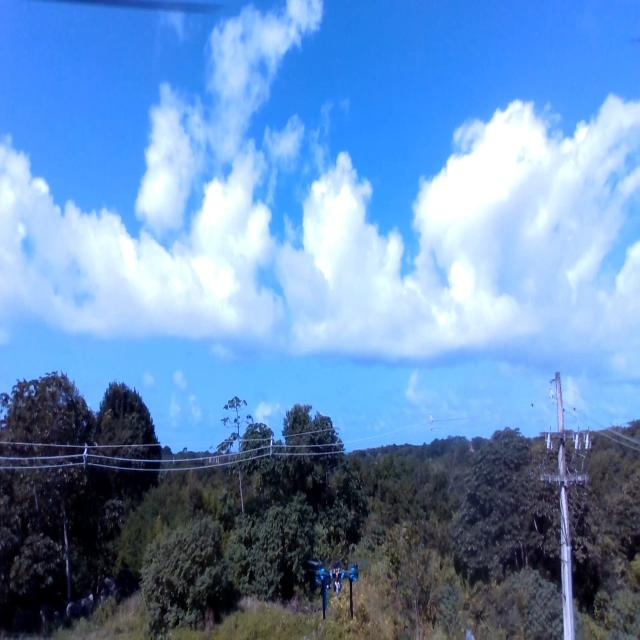-uav-: (299, 542, 371, 631)
